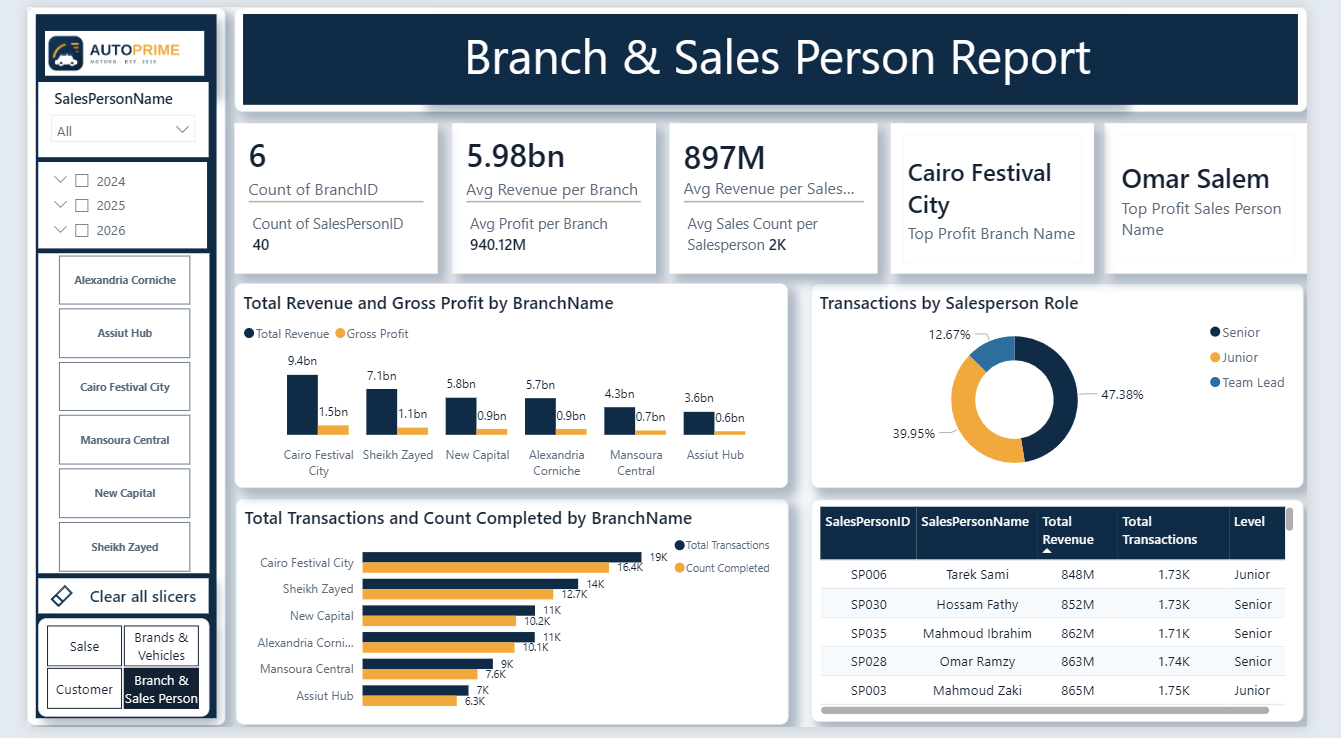

What the dashboard file says about the page in this screenshot:
{"tool":"powerbi","page":{"name":" Branch & Sales Person","canvas":[1280,720],"ordinal":3},"visuals":[{"type":"shape","box":[0,0,198.8,718.8],"z":0},{"type":"shape","box":[207.5,0,1072.5,105],"z":1000},{"type":"image","box":[9.5,8.3,175,75],"z":2000},{"type":"textbox","box":[395,8.8,697.5,87.5],"z":3000},{"type":"donutChart","title":"Transactions by Salesperson Role","fields":{"Y":["CountNonNull(Fact_Sales.SaleID)"],"Category":["Dim_SalesPerson.Level"]},"box":[783.3,276.2,492.9,204.8],"z":4000},{"type":"slicer","fields":{"Values":["Dim_Date.Year","Dim_Date.MonthName"]},"box":[11.2,155,168.8,86.2],"z":5000},{"type":"cardVisual","fields":{"Data":["Measure.Avg Revenue per Branch"]},"box":[424.5,116.2,203.8,150],"z":6000},{"type":"cardVisual","fields":{"Data":["Count(Dim_Branch.BranchID)"]},"box":[207.5,116.2,203,150],"z":7000},{"type":"cardVisual","fields":{"Data":["Measure.Avg Sales per Salesperson"]},"box":[642.2,116.2,208,150],"z":8000},{"type":"cardVisual","fields":{"Data":["Measure.Top Profit Sales Person Name1"]},"box":[1077,116.2,203,150],"z":9000},{"type":"cardVisual","fields":{"Data":["Measure.Top Profit Branch Name"]},"box":[864.2,116.2,203,150],"z":10000},{"type":"clusteredBarChart","fields":{"Category":["Dim_Branch.BranchName"],"Y":["Measure.Total Transactions","Measure.Count Completed"]},"box":[208.8,491.2,552.5,226.2],"z":11000},{"type":"clusteredColumnChart","fields":{"Category":["Dim_Branch.BranchName"],"Y":["Measure.Total Revenue","Measure.Gross Profit"]},"box":[207.1,276.2,553.6,204.8],"z":12000},{"type":"actionButton","box":[11.2,571.2,170,35],"z":13000},{"type":"slicer","fields":{"Values":["Dim_SalesPerson.SalesPersonName"]},"box":[11.2,75,170,75],"z":14000},{"type":"tableEx","fields":{"Values":["Dim_SalesPerson.SalesPersonID","Dim_SalesPerson.SalesPersonName","Measure.Total Revenue","Measure.Total Transactions","Dim_SalesPerson.Level"]},"box":[783.8,492.5,492.5,222.5],"z":15000},{"type":"pageNavigator","box":[11.2,611.2,171.2,98.8],"z":16000},{"type":"slicer","fields":{"Values":["Dim_Branch.BranchName"]},"box":[11.2,246.2,171.2,320],"z":17000}]}

Visuals, with their boxes in screenshot pixels (x1, y1, x2, y2), scaled from the page's 1280x720 canvas onto the 1341x738 screenshot:
shape: rect(0, 0, 208, 737)
shape: rect(217, 0, 1340, 108)
image: rect(10, 9, 193, 85)
textbox: rect(414, 9, 1145, 99)
"Transactions by Salesperson Role" donutChart: rect(821, 283, 1337, 493)
slicer - Dim_Date.Year x Dim_Date.MonthName: rect(12, 159, 189, 247)
cardVisual - Measure.Avg Revenue per Branch: rect(445, 119, 658, 273)
cardVisual - Count(Dim_Branch.BranchID): rect(217, 119, 430, 273)
cardVisual - Measure.Avg Sales per Salesperson: rect(673, 119, 891, 273)
cardVisual - Measure.Top Profit Sales Person Name1: rect(1128, 119, 1340, 273)
cardVisual - Measure.Top Profit Branch Name: rect(905, 119, 1118, 273)
clusteredBarChart - Dim_Branch.BranchName x Measure.Total Transactions: rect(219, 503, 798, 735)
clusteredColumnChart - Dim_Branch.BranchName x Measure.Total Revenue: rect(217, 283, 797, 493)
actionButton: rect(12, 585, 190, 621)
slicer - Dim_SalesPerson.SalesPersonName: rect(12, 77, 190, 154)
tableEx - Dim_SalesPerson.SalesPersonID x Dim_SalesPerson.SalesPersonName: rect(821, 505, 1337, 733)
pageNavigator: rect(12, 626, 191, 728)
slicer - Dim_Branch.BranchName: rect(12, 252, 191, 580)
